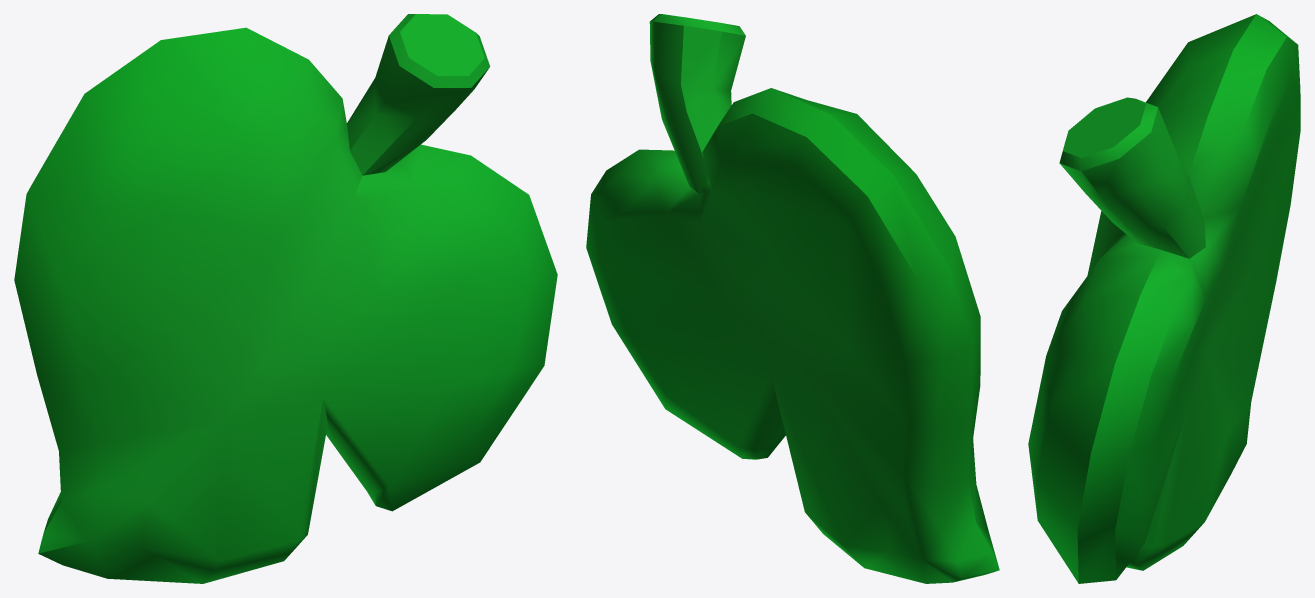
3 views of the same model, side by side, from view 1: azimuth 30°, elevation 25°; view 2: azimuth 150°, elevation 25°; view 3: azimuth 270°, elevation 25° (orthographic). The views are drawn at different scales.
Visible parts, largest first — view 1: model_0.037; view 2: model_0.037; view 3: model_0.037.
Part boxes in pixels (x1=…): model_0.037: x1=14, y1=14, x2=557, y2=583; model_0.037: x1=586, y1=14, x2=999, y2=583; model_0.037: x1=1028, y1=14, x2=1300, y2=583.
Bounding box in the file's own units: 3.42 × 3.61 × 1.62.
